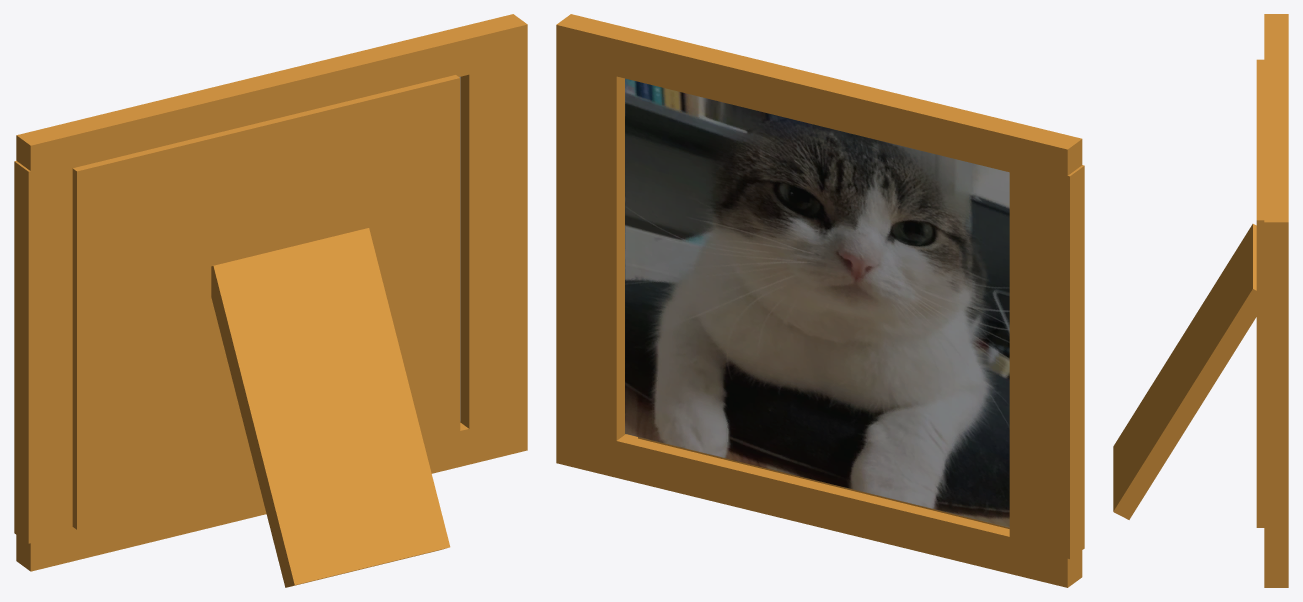
The model's file is behold.glb.
The picture shows the model from 3 angles, left to right: view 1: azimuth 30°, elevation 25°; view 2: azimuth 150°, elevation 25°; view 3: azimuth 270°, elevation 25°; orthographic projection. The views are drawn at different scales.
Parts seen in each view (by area): view 1: wawa; view 2: wawa; view 3: wawa.
Part boxes in pixels (bbox=[...]): wawa: bbox=[14, 14, 527, 587]; wawa: bbox=[556, 14, 1084, 587]; wawa: bbox=[1113, 14, 1288, 587].
Bounding box in the file's own units: 5.21 × 4.27 × 1.85.
Materials: 3 (1 with a texture image).
